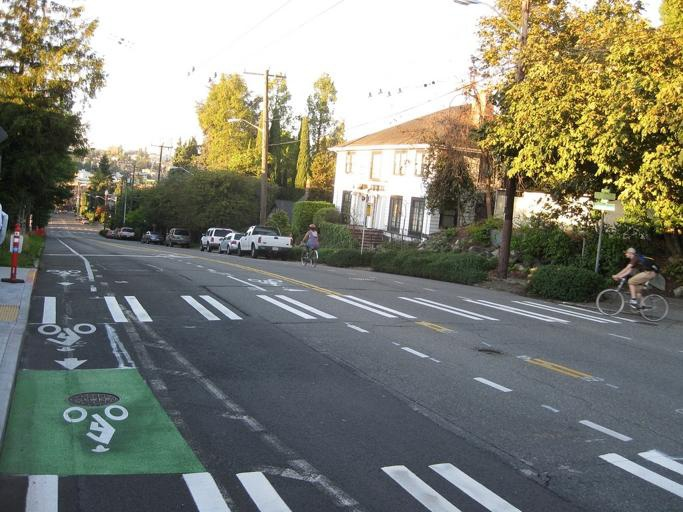non-vehicle: (595, 276, 669, 321), (300, 241, 318, 268)
